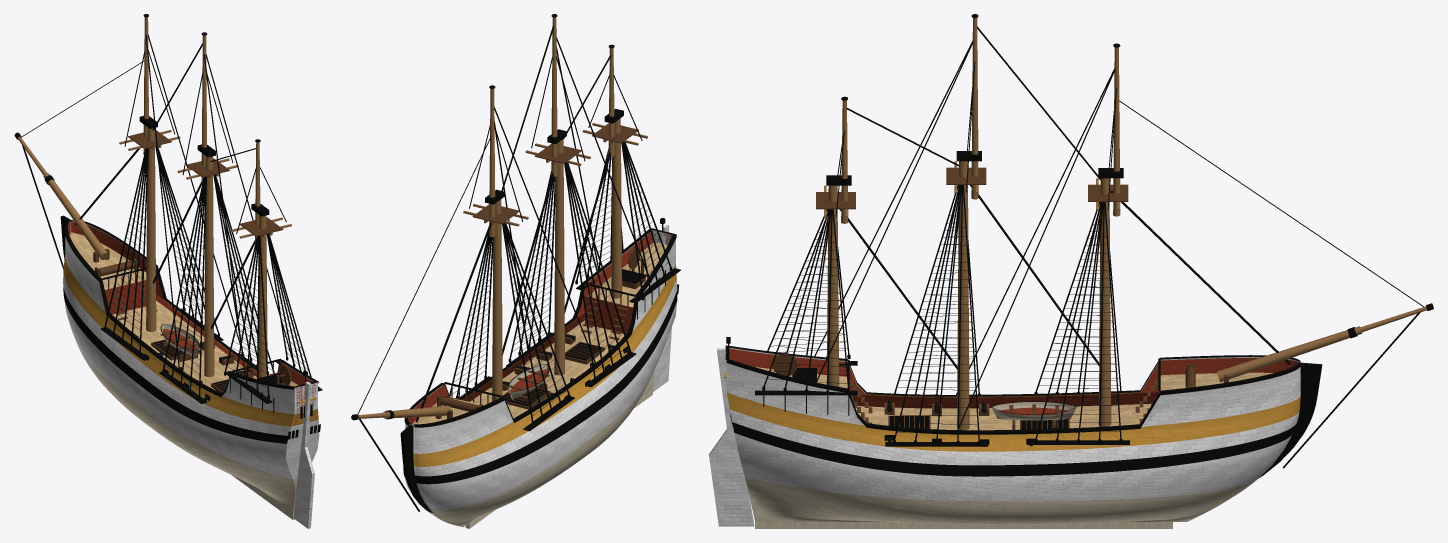
File: fluyt.glb
The picture shows the model from 3 angles, left to right: view 1: azimuth 30°, elevation 25°; view 2: azimuth 150°, elevation 25°; view 3: azimuth 270°, elevation 25°; orthographic projection. The views are drawn at different scales.
Parts seen in each view (by area): view 1: hull; view 2: hull; view 3: hull.
Boxes of the visible parts, x1,y1,x2,y2 form: hull: (14, 14, 322, 528); hull: (351, 14, 680, 528); hull: (709, 14, 1433, 528).
Bounding box in the file's own units: 7.2 × 31.93 × 40.93.
9 materials, 5 textured.
